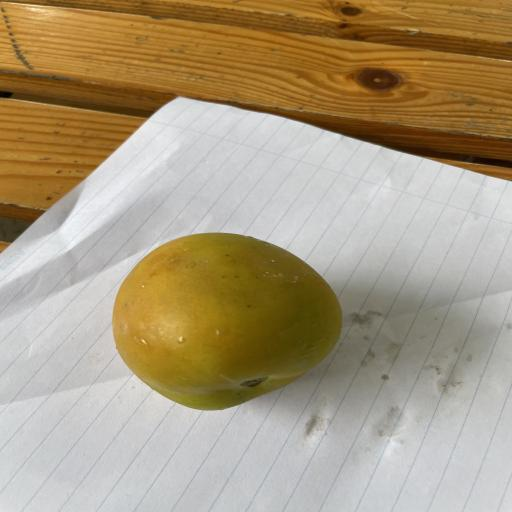unripe: (113, 233, 342, 410)
